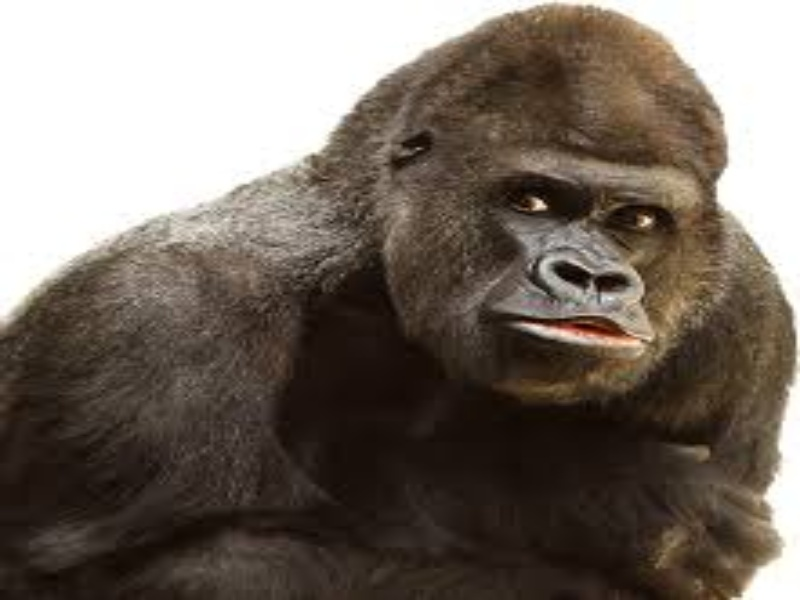monkey: (21, 13, 784, 594)
